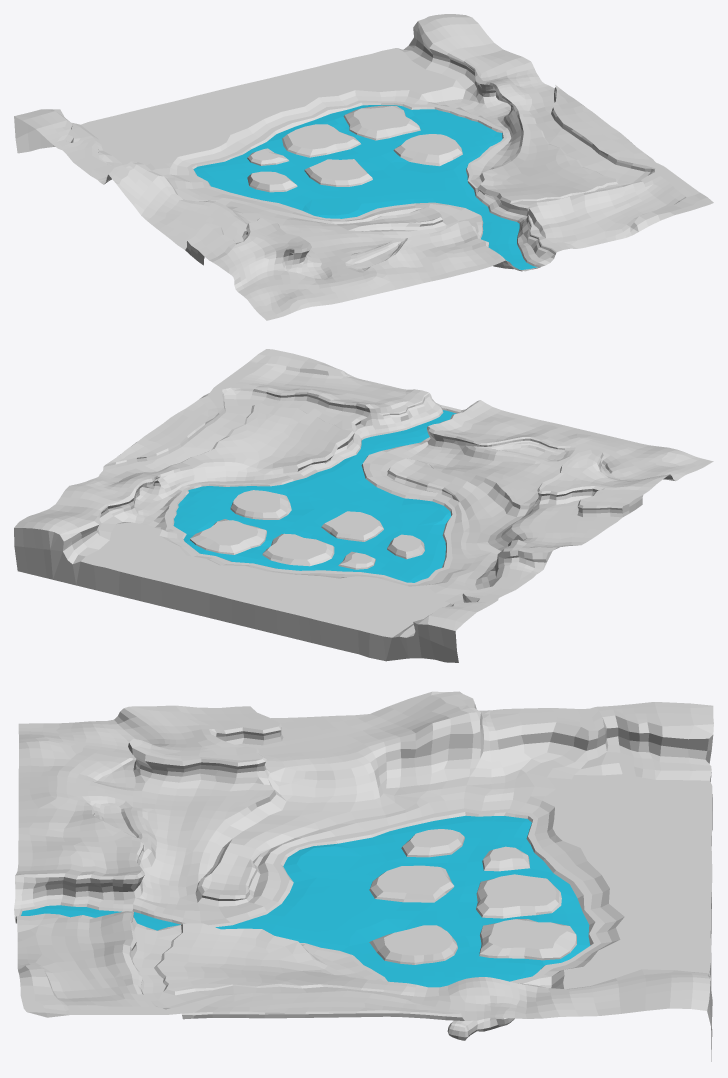
Rendered from EA_Terrain_Test.fbx.
3 renders of one model, top to bottom at view 1: azimuth 30°, elevation 25°; view 2: azimuth 150°, elevation 25°; view 3: azimuth 270°, elevation 25°, orthographic. The views are drawn at different scales.
Parts seen in each view (by area): view 1: EA_Terrain_Test; view 2: EA_Terrain_Test; view 3: EA_Terrain_Test.
Boxes of the visible parts, x1,y1,x2,y2 form: EA_Terrain_Test: (14,14,713,320); EA_Terrain_Test: (14,349,713,662); EA_Terrain_Test: (14,691,713,1061).
Bounding box in the file's own units: 147 × 18.51 × 143.
